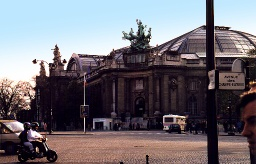bus: (162, 113, 189, 134)
car: (169, 124, 181, 133)
moto: (16, 122, 60, 163)
